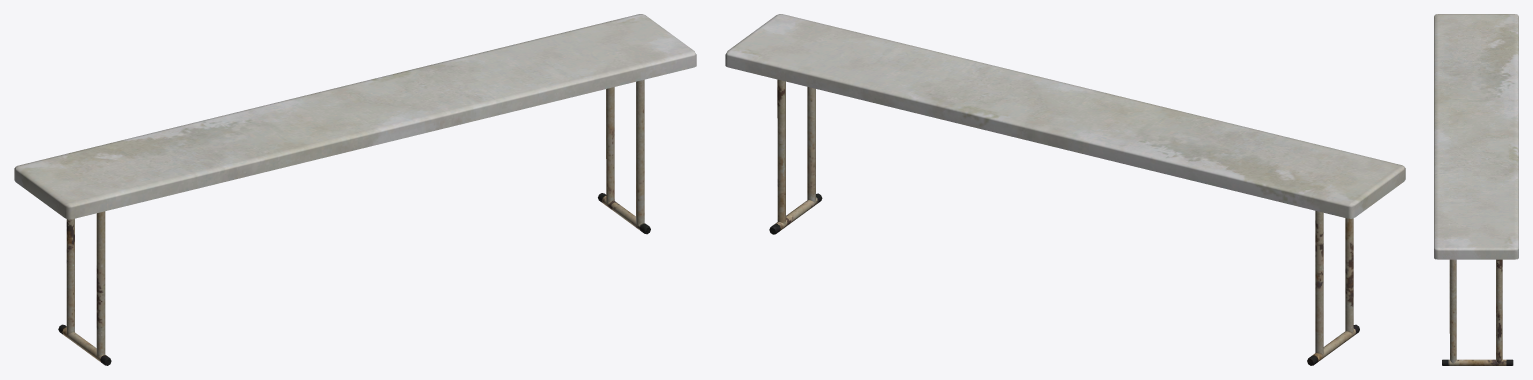
The model's file is 050_lecturetable01a.fbx.
3 renders of one model, left to right at view 1: azimuth 30°, elevation 25°; view 2: azimuth 150°, elevation 25°; view 3: azimuth 270°, elevation 25°, orthographic. The views are drawn at different scales.
Parts seen in each view (by area): view 1: LOD_1_Group_0_Sub_1__sm30_050_LectureTable01A_A_Mat; view 2: LOD_1_Group_0_Sub_1__sm30_050_LectureTable01A_A_Mat; view 3: LOD_1_Group_0_Sub_1__sm30_050_LectureTable01A_A_Mat.
Boxes of the visible parts, bbox=[...] form: LOD_1_Group_0_Sub_1__sm30_050_LectureTable01A_A_Mat: bbox=[14, 14, 696, 365]; LOD_1_Group_0_Sub_1__sm30_050_LectureTable01A_A_Mat: bbox=[725, 14, 1405, 365]; LOD_1_Group_0_Sub_1__sm30_050_LectureTable01A_A_Mat: bbox=[1434, 14, 1518, 365].
Size of the model in its own units: 3.27 by 0.8685 by 0.4982.
